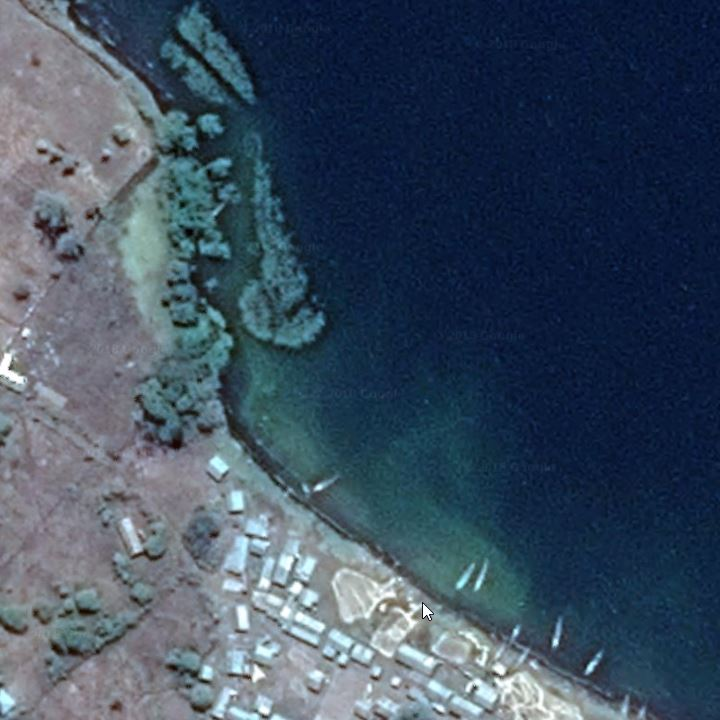boat: (581, 645, 607, 683), (455, 554, 476, 597), (310, 472, 344, 498), (488, 633, 508, 670), (549, 610, 566, 652), (475, 554, 490, 599), (512, 644, 535, 673), (506, 621, 524, 651), (621, 692, 633, 720), (635, 701, 650, 720)
